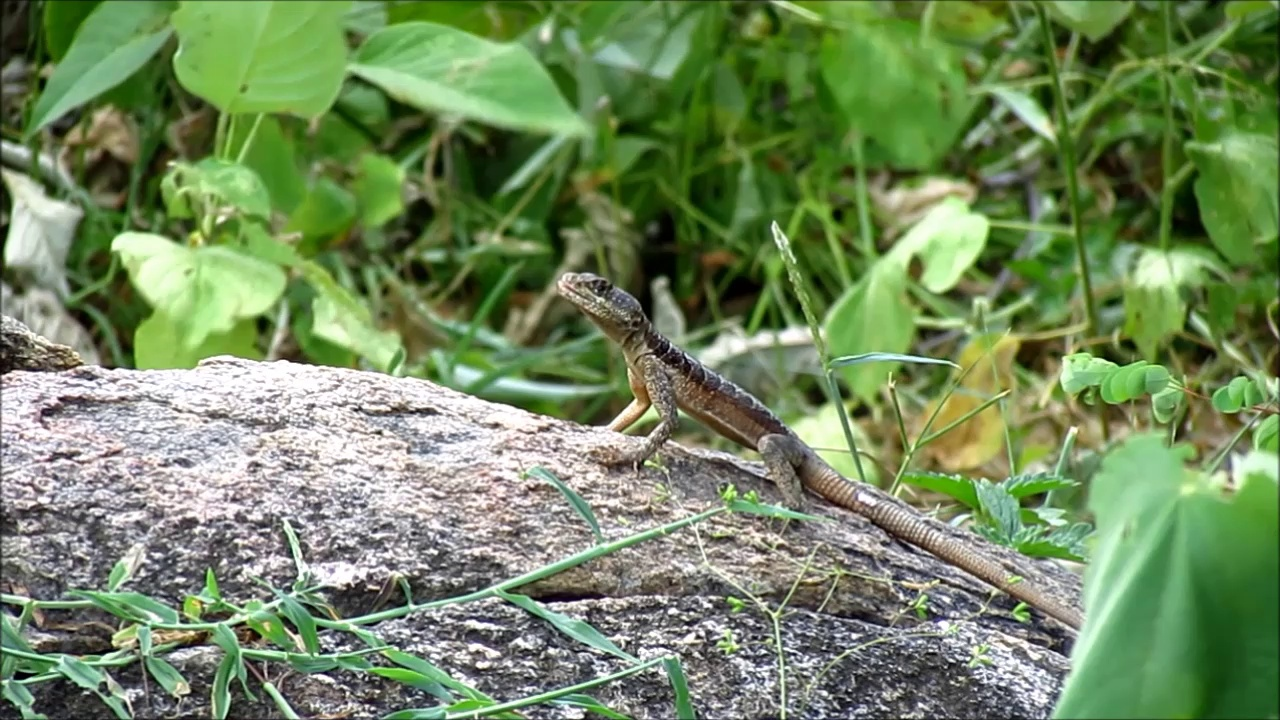body: (588, 314, 1082, 625)
head: (557, 272, 645, 341)
